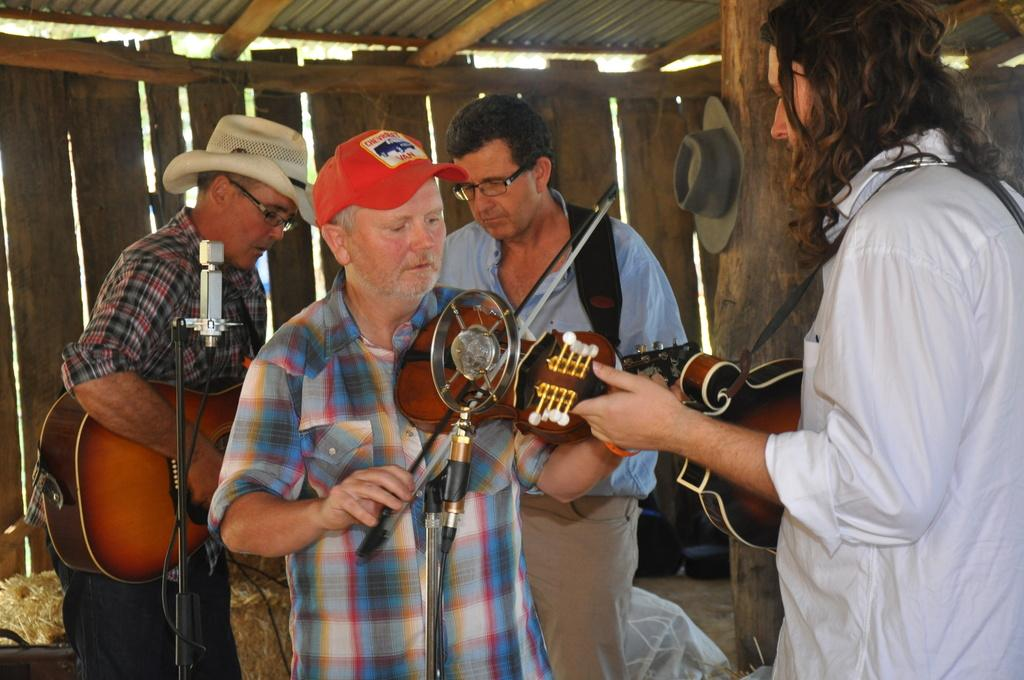Hat: (162, 112, 315, 227), (312, 130, 468, 224)
